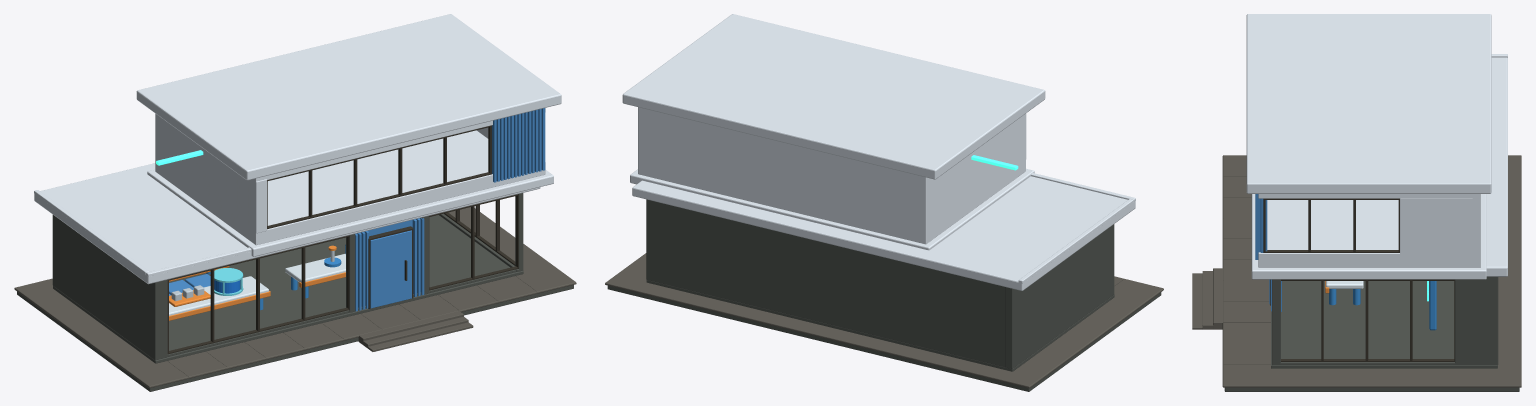
File: modern-lab.glb
3 renders of one model, left to right at view 1: azimuth 30°, elevation 25°; view 2: azimuth 150°, elevation 25°; view 3: azimuth 270°, elevation 25°, orthographic. The views are drawn at different scales.
Parts seen in each view (by area): view 1: Upper roof slab, Continuous terrace top, Upper cantilever slab, Lower flat roof, Ground floor slab, West wall, Upper west wall, Upper front spandrel, Pivot door, Terrace plinth, West pier, Upper front head (+15 smaller); view 2: Upper roof slab, Rear wall, Upper rear wall, Lower flat roof, Continuous terrace top, West wall, Upper west wall, Upper cantilever slab, Terrace plinth, Ground floor slab, Lower parapet west; view 3: Upper roof slab, Continuous terrace top, Ground floor slab, Upper cantilever slab, Lower flat roof, Upper east end, East end wall, Upper east spandrel, Terrace plinth, Upper east head, Corner pier, Side sill (+13 smaller).
Boxes of the visible parts, bbox=[...] form: Upper roof slab: bbox=[136, 14, 561, 180]; Continuous terrace top: bbox=[14, 207, 576, 388]; Upper cantilever slab: bbox=[147, 130, 553, 256]; Lower flat roof: bbox=[34, 163, 540, 284]; Ground floor slab: bbox=[53, 215, 523, 363]; West wall: bbox=[52, 215, 152, 358]; Upper west wall: bbox=[159, 116, 252, 241]; Upper front spandrel: bbox=[252, 162, 545, 245]; Pivot door: bbox=[370, 230, 411, 308]; Terrace plinth: bbox=[17, 285, 573, 391]; West pier: bbox=[152, 279, 167, 360]; Upper front head: bbox=[252, 108, 545, 181]; Upper roof slab: bbox=[622, 14, 1045, 179]; Rear wall: bbox=[646, 199, 1016, 367]; Upper rear wall: bbox=[638, 108, 927, 244]; Lower flat roof: bbox=[632, 176, 1135, 290]; Continuous terrace top: bbox=[605, 253, 1163, 388]; West wall: bbox=[1005, 227, 1110, 368]; Upper west wall: bbox=[919, 116, 1022, 244]; Upper cantilever slab: bbox=[630, 168, 1034, 250]; Terrace plinth: bbox=[607, 285, 1161, 391]; Ground floor slab: bbox=[646, 280, 1114, 371]; Lower parapet west: bbox=[1018, 199, 1133, 283]; Upper roof slab: bbox=[1246, 14, 1491, 193]; Continuous terrace top: bbox=[1222, 155, 1521, 387]; Ground floor slab: bbox=[1271, 281, 1497, 368]; Upper cantilever slab: bbox=[1251, 194, 1486, 279]; Lower flat roof: bbox=[1486, 57, 1507, 276]; Upper east end: bbox=[1400, 198, 1480, 253]; East end wall: bbox=[1455, 277, 1498, 365]; Upper east spandrel: bbox=[1263, 253, 1478, 267]; Terrace plinth: bbox=[1224, 387, 1519, 391]; Upper east head: bbox=[1267, 194, 1472, 198]; Corner pier: bbox=[1272, 279, 1280, 365]; Side sill: bbox=[1280, 362, 1455, 365].
Size of what is drawn, in the model's own units: 16.24 by 6.82 by 9.81.
